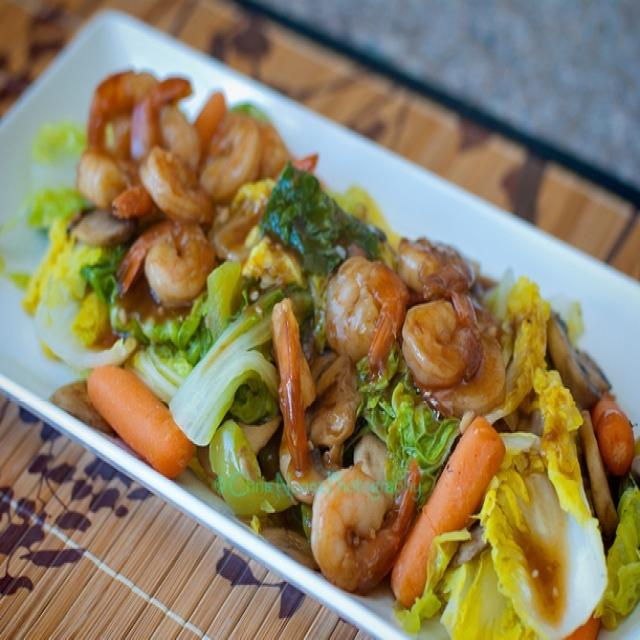蔬菜料理: (25, 47, 617, 618)
